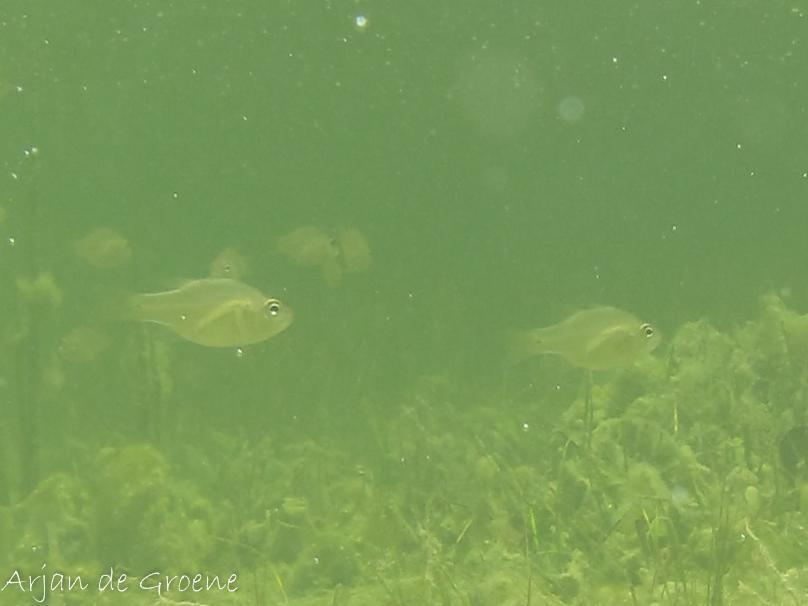Fish: (114, 266, 308, 362), (511, 294, 662, 382)
